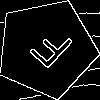F: (22, 23, 76, 78)
